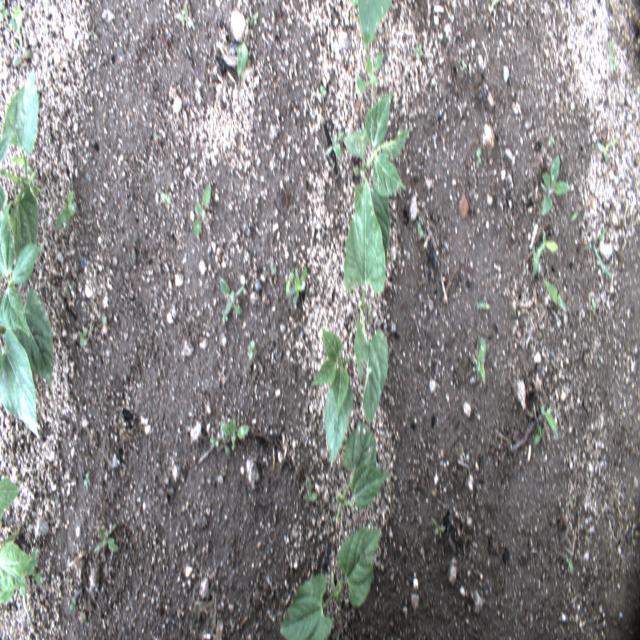crop: (342, 91, 413, 258), (280, 526, 380, 639), (344, 175, 388, 415), (0, 71, 44, 266), (0, 287, 54, 441), (310, 326, 354, 469), (335, 422, 389, 524), (0, 199, 39, 335), (0, 542, 38, 604), (356, 0, 394, 50), (0, 477, 18, 522)
weed: (230, 13, 258, 79), (540, 165, 572, 216), (532, 229, 560, 280), (219, 276, 246, 325), (357, 50, 385, 92), (283, 264, 308, 306), (221, 416, 250, 451), (194, 180, 212, 235), (56, 190, 77, 230), (92, 525, 119, 554), (473, 336, 487, 387), (10, 38, 34, 66), (545, 281, 566, 311), (541, 404, 556, 436), (302, 475, 319, 502), (532, 422, 544, 448), (246, 340, 258, 363)
